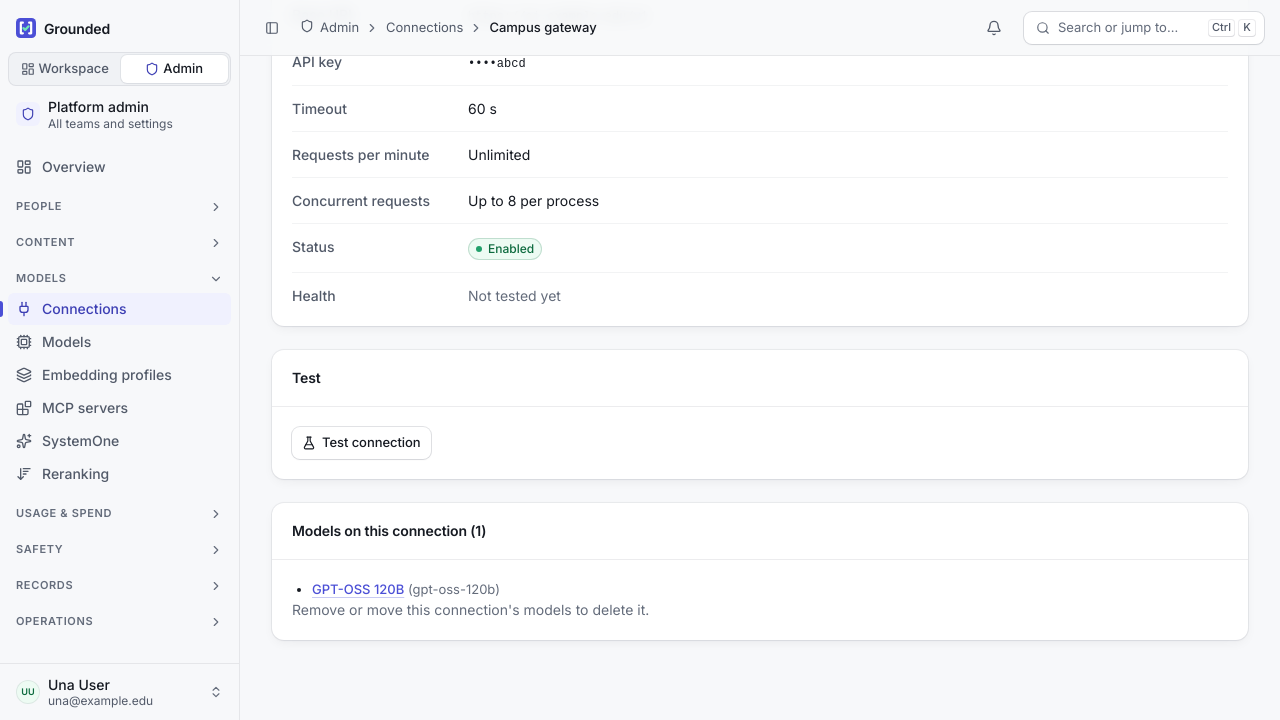
Test: admin catalog › tests a connection and adds an offered model with the connection and ID filled in
(page scrolled)
Expected: the link "GPT-OSS 120B" is shown, [312,580,404,596]
Click the button "Test connection" at (361, 442), box [292,426,430,458]
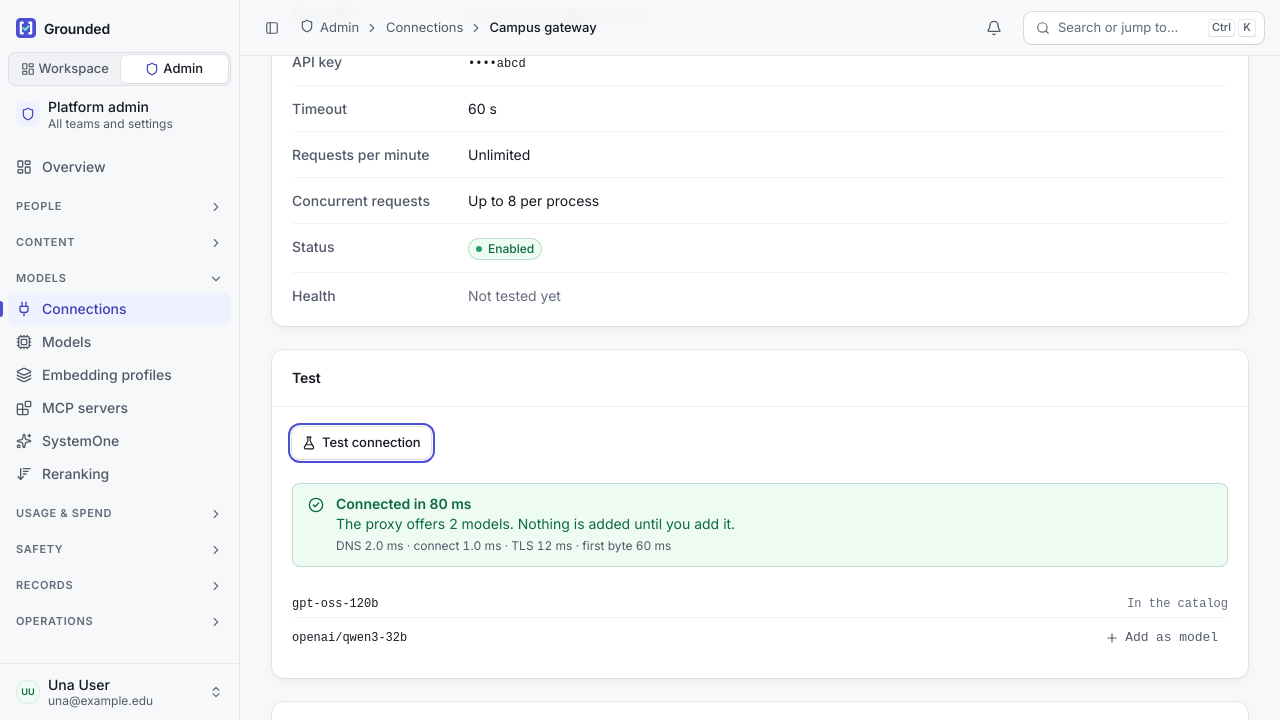
Now the text "DNS 2.0 ms · connect 1.0 ms · TLS 12 ms · first byte 60 ms" is shown, box [336,538,671,553]
Now the text "In the catalog" is shown, box [1127,594,1228,612]
Click the button with aria-label "Add as model: openai/qwen3-32b" at (1162, 638), box [1095,622,1228,654]
(page scrolled)
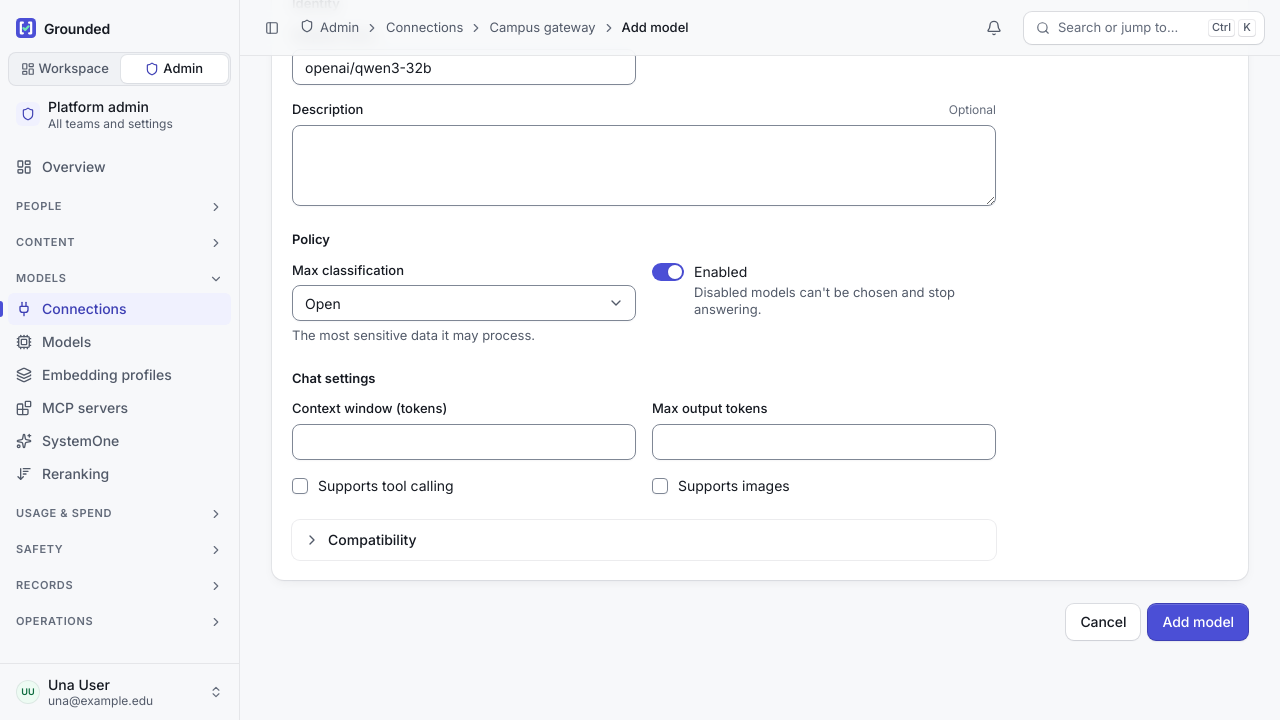
Expected: the link "Connections" below "Identity" is shown, [382,18,467,38]
Now the element "Chat settings" is shown, box [292,369,996,496]
Now the text "Add model" is shown, box [618,18,690,38]
// Cancel (untouched) returns to the connection's page, then its back link to the list.
Click the button "Cancel" at (1103, 622), box [1066,604,1140,640]
(page scrolled)
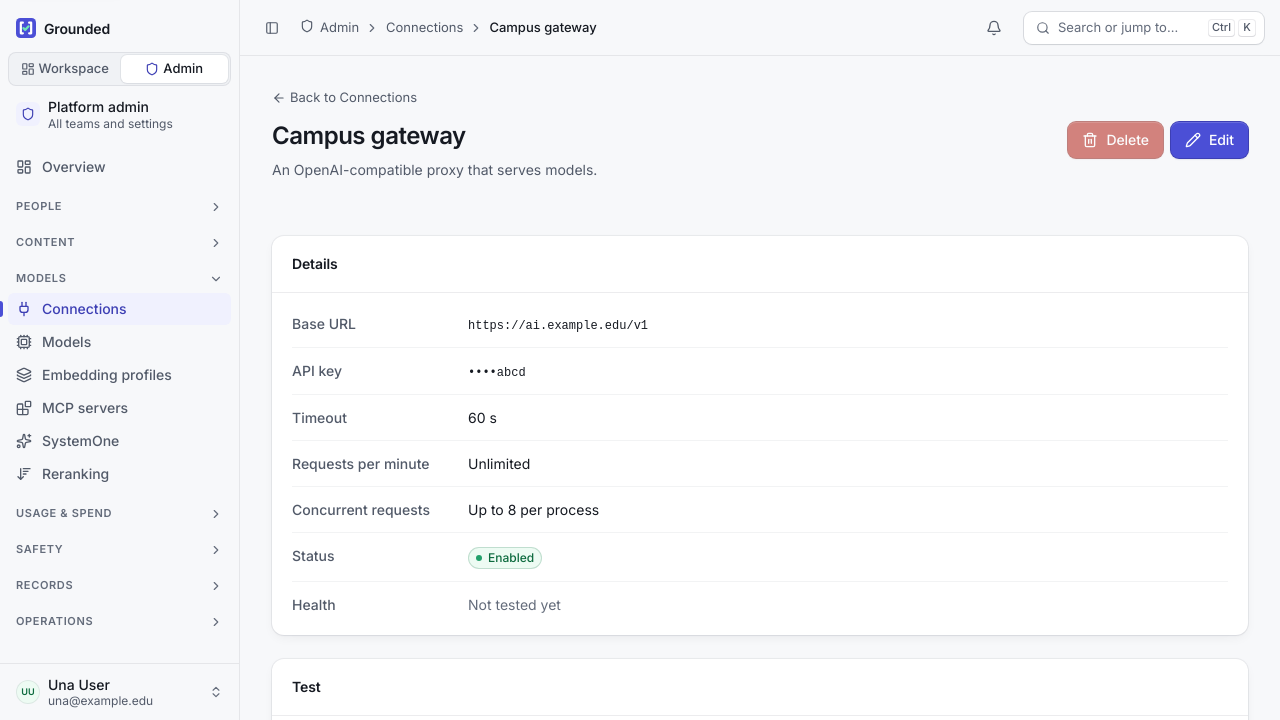
Now the text "Add model" is gone
Click the link "Back to Connections" at (344, 98), box [272,88,417,108]
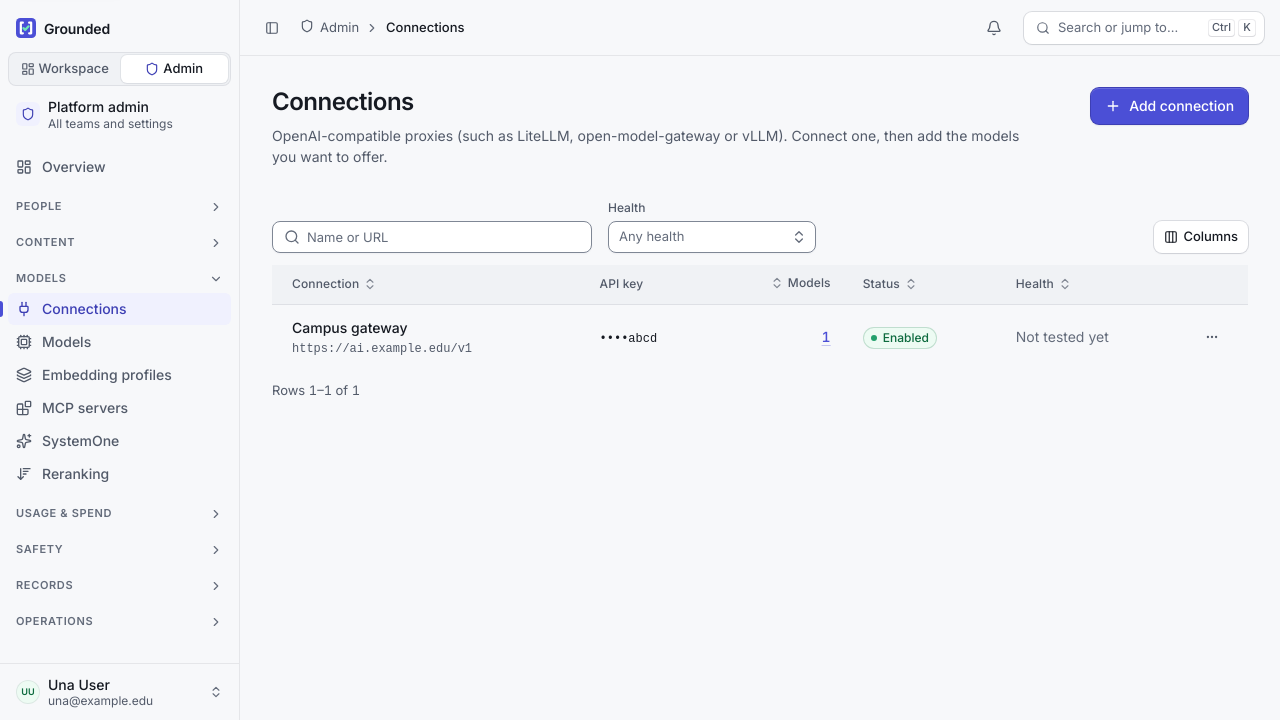
Now the table named "Connections" is shown, box [272,265,1248,369]
